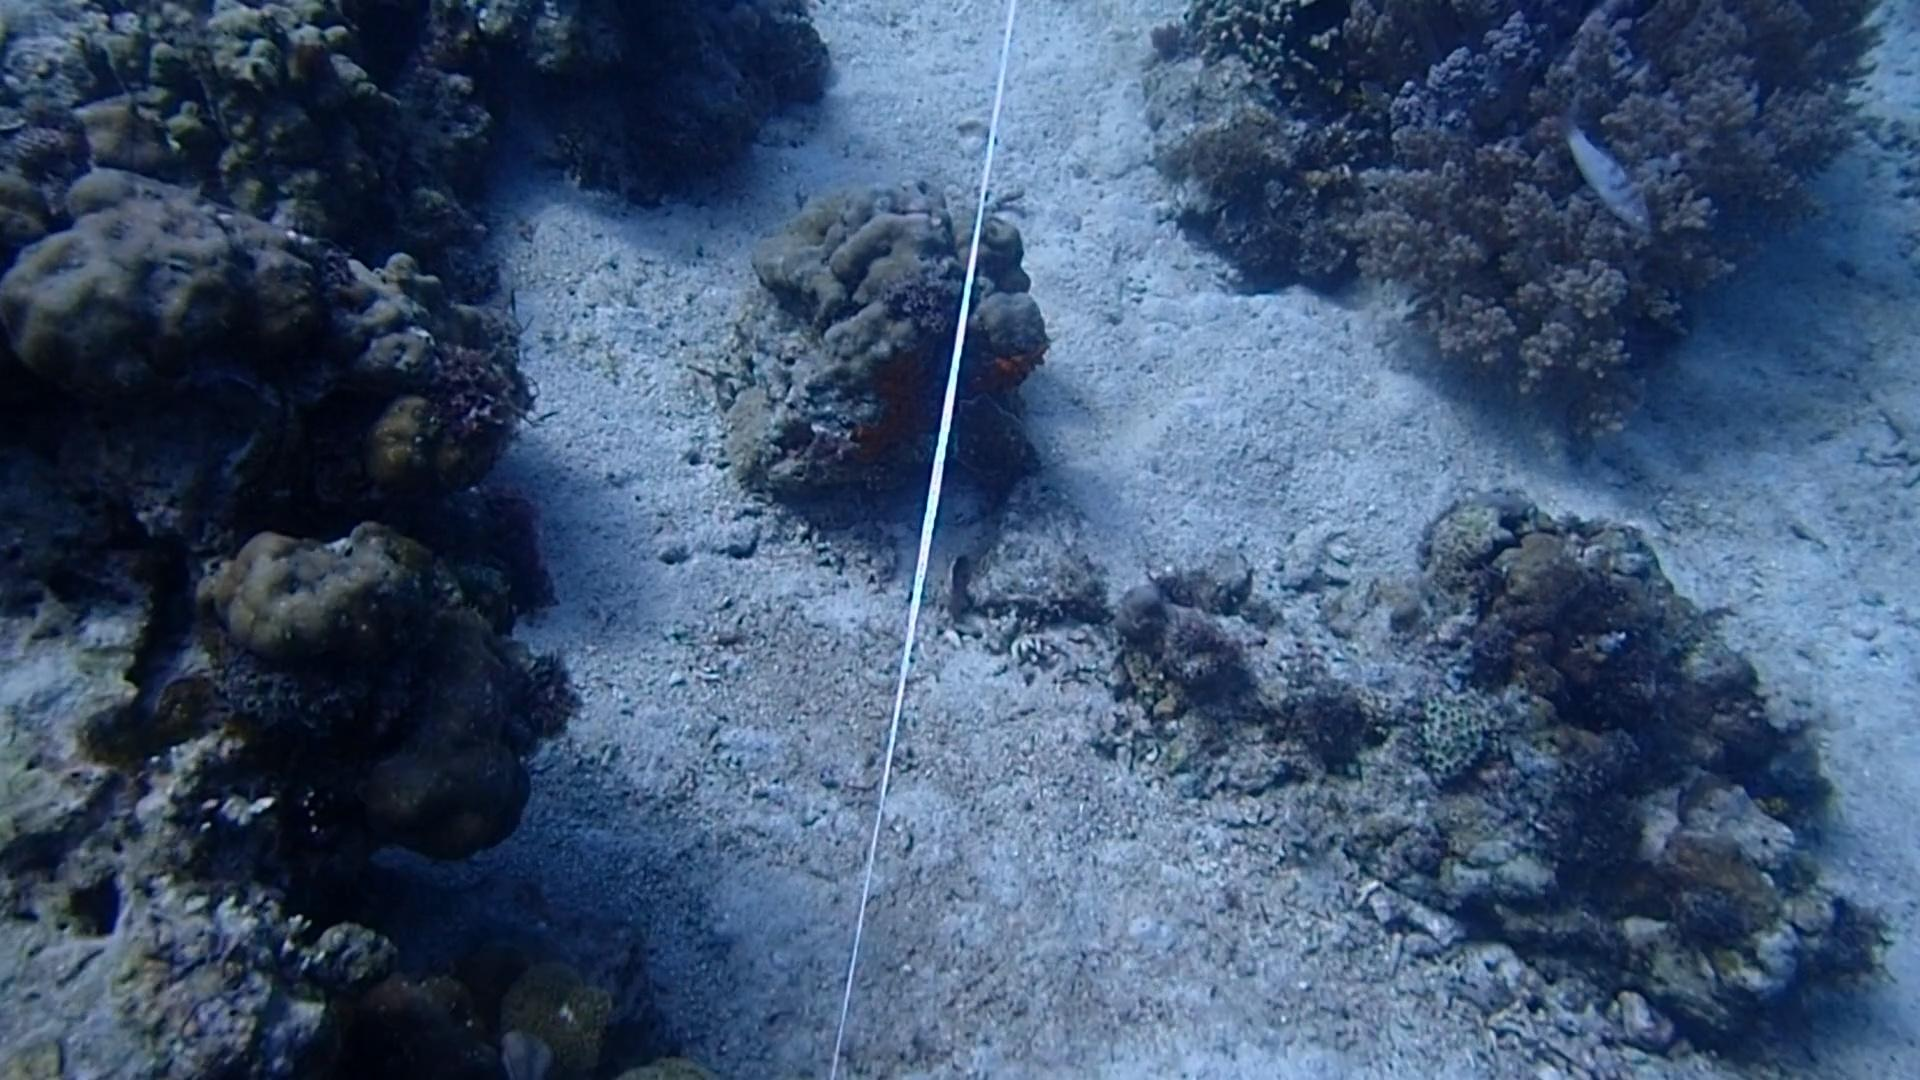Light Fish w Back Stripes: (1545, 120, 1664, 231)
